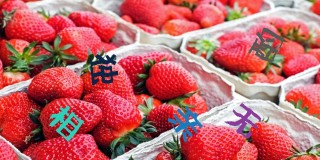亲: (167, 106, 203, 142)
无: (226, 103, 261, 140)
独: (87, 53, 119, 87)
相: (49, 103, 84, 143)
酌: (248, 27, 286, 64)
